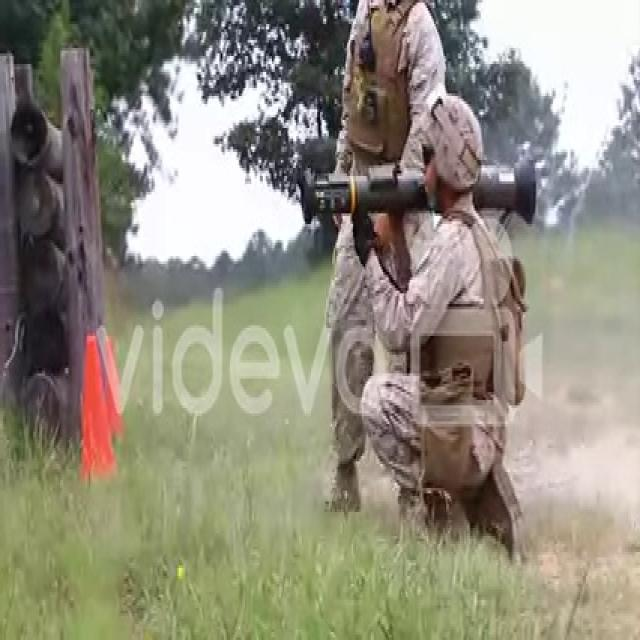bazooka: (299, 149, 543, 240)
